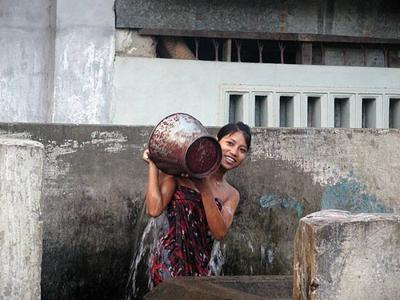person: (142, 122, 249, 292)
